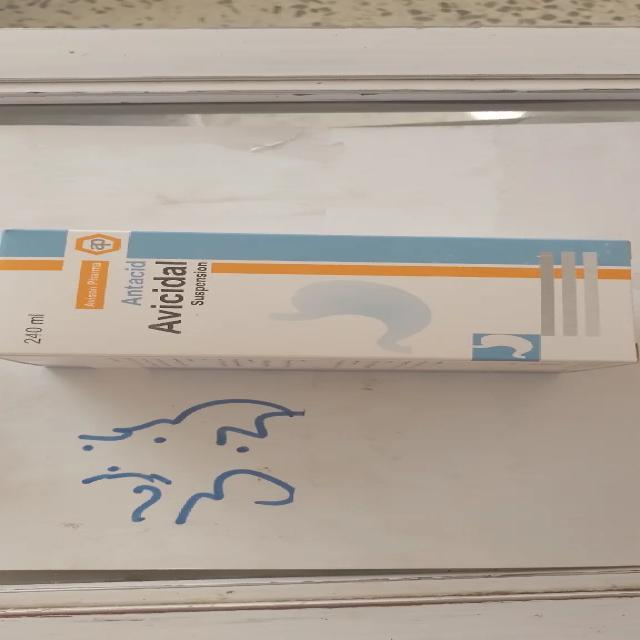drug-name: (147, 255, 186, 342)
